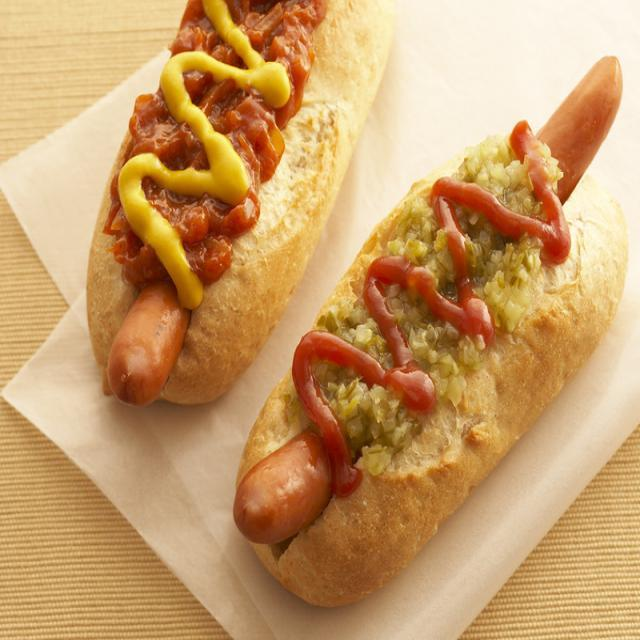Hot Dog: (226, 38, 633, 614), (83, 0, 378, 418)
